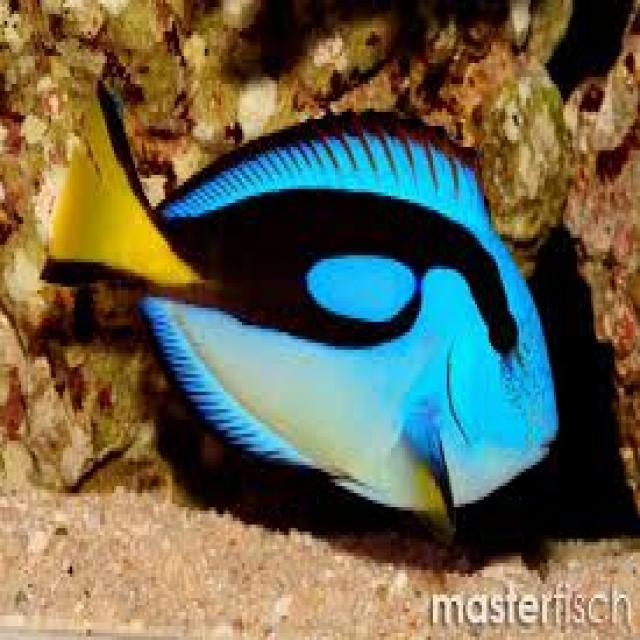TangFish: (39, 80, 562, 510)
